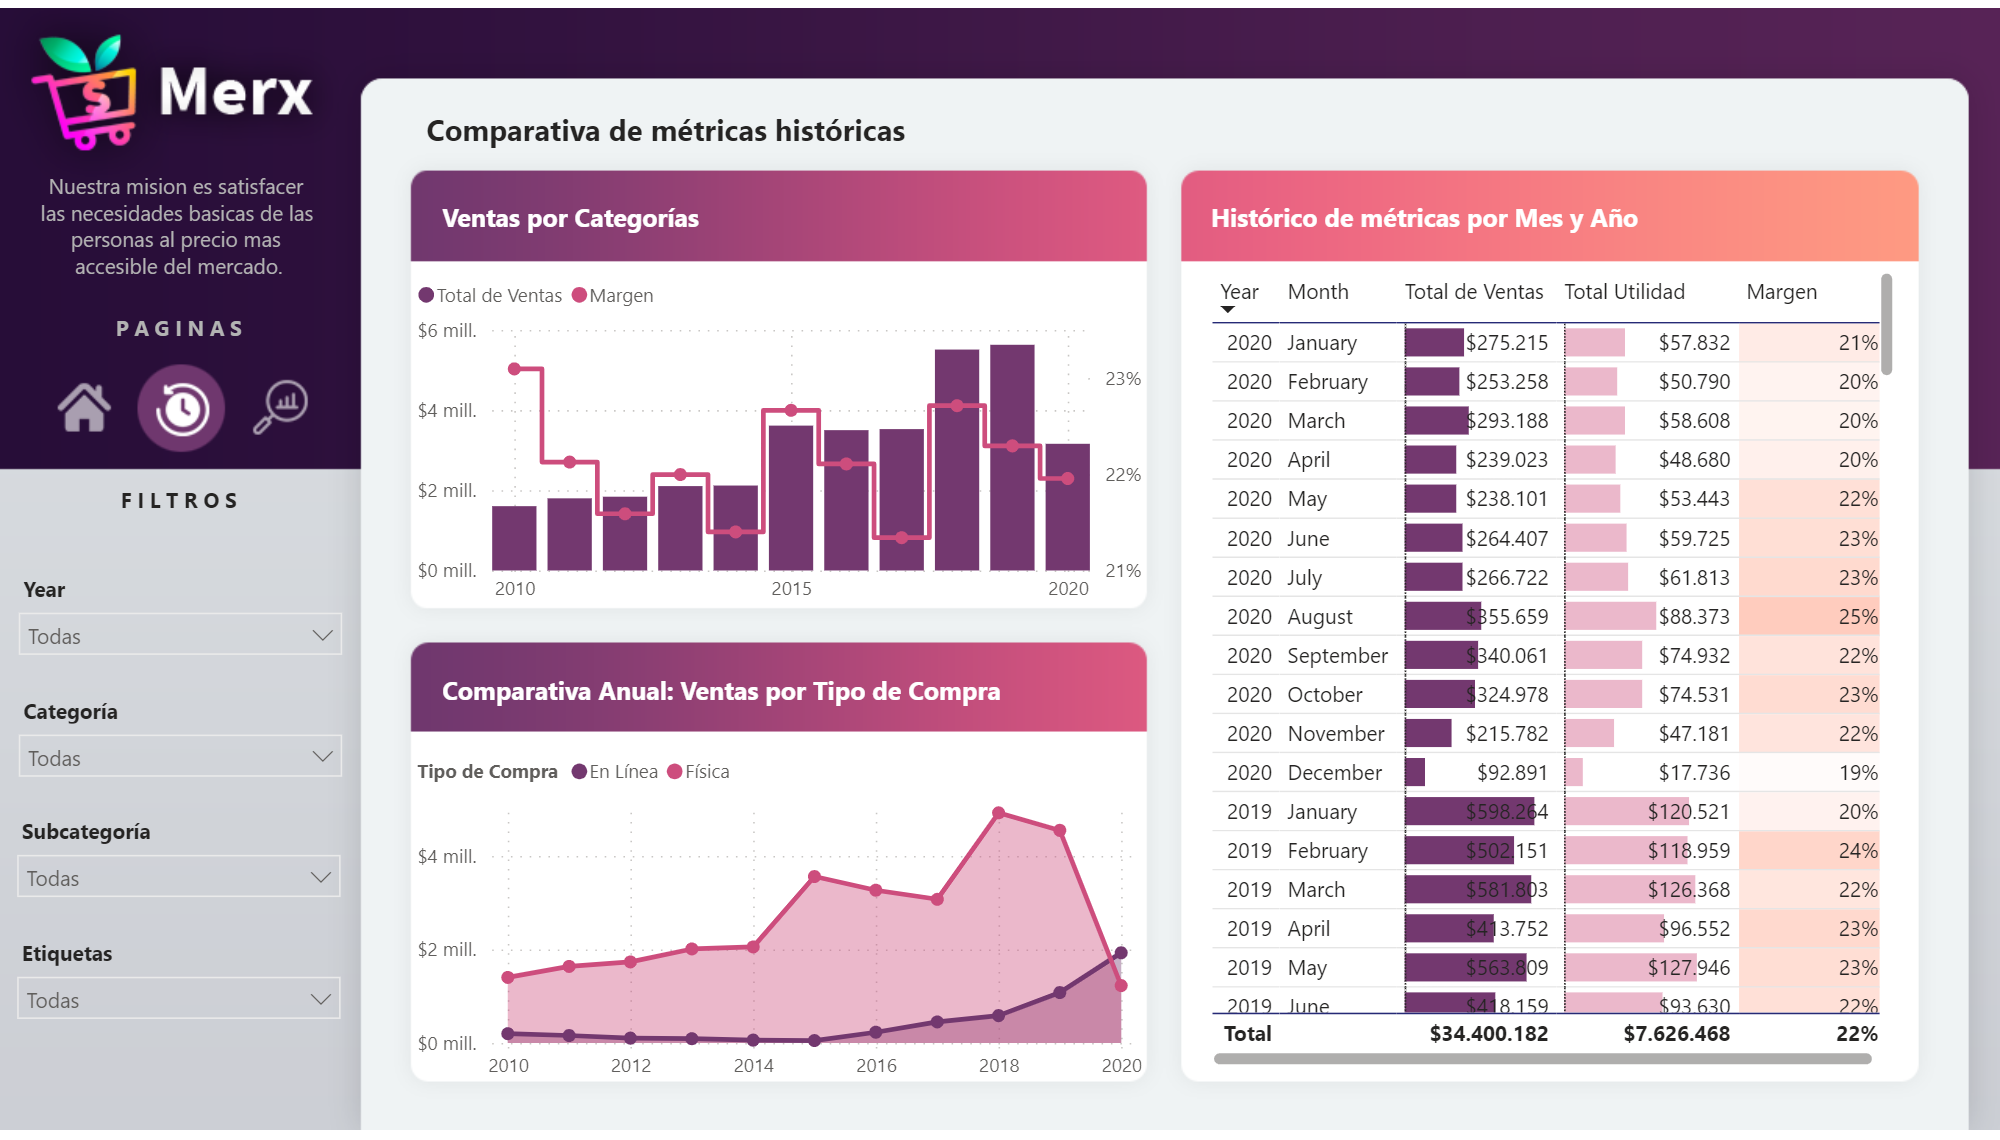

What the dashboard file says about the page in this screenshot:
{"tool":"powerbi","page":{"name":"Page 2","canvas":[1280,720],"ordinal":1},"visuals":[{"type":"slicer","fields":{"Values":["Transacciones.Fecha.Variation.Date Hierarchy.Year"]},"box":[1.8,357.8,227.1,78.1],"z":0},{"type":"slicer","fields":{"Values":["Transacciones.Categoría"]},"box":[1.8,435.9,227.1,77.2],"z":1000},{"type":"slicer","fields":{"Values":["Transacciones.Subcategoría"]},"box":[0.9,513,227.1,78.1],"z":2000},{"type":"slicer","fields":{"Values":["Transacciones.Etiquetas"]},"box":[0.9,591.1,227.1,77.2],"z":3000},{"type":"textbox","box":[1,0,227,150],"z":4000},{"type":"textbox","box":[268.4,349.9,232.4,37.7],"z":5000},{"type":"textbox","box":[21,100,186.8,80.7],"z":6000},{"type":"textbox","box":[21,191.2,186.8,35.1],"z":7000},{"type":"textbox","box":[21,300.8,186.8,35.1],"z":8000},{"type":"textbox","box":[268.4,59.6,825.2,46.5],"z":9000},{"type":"lineStackedColumnComboChart","fields":{"Category":["Transacciones.Fecha.Variation.Date Hierarchy.Year","Transacciones.Fecha.Variation.Date Hierarchy.Quarter","Transacciones.Fecha.Variation.Date Hierarchy.Month","Transacciones.Fecha.Variation.Date Hierarchy.Day"],"Y":["Transacciones.Total de Ventas"],"Y2":["Transacciones.Margen"]},"box":[262.2,163.9,473.5,226],"z":10000},{"type":"textbox","box":[277.7,118.2,343.3,43.1],"z":11000},{"type":"textbox","box":[277.7,420.9,427.8,43.1],"z":12000},{"type":"textbox","box":[770.2,118.2,343.3,43.1],"z":13000},{"type":"areaChart","fields":{"Category":["Transacciones.Fecha.Variation.Date Hierarchy.Year","Transacciones.Fecha.Variation.Date Hierarchy.Quarter","Transacciones.Fecha.Variation.Date Hierarchy.Month","Transacciones.Fecha.Variation.Date Hierarchy.Day"],"Y":["Transacciones.Total de Ventas"],"Series":["Transacciones.Tipo de Compra"]},"box":[262.2,469.2,473.5,226],"z":14000},{"type":"tableEx","fields":{"Values":["Transacciones.Fecha.Variation.Date Hierarchy.Year","Transacciones.Fecha.Variation.Date Hierarchy.Month","Transacciones.Total de Ventas","Transacciones.Total Utilidad","Transacciones.Margen"]},"box":[770.3,163.7,446.9,518],"z":15000},{"type":"actionButton","box":[32.4,236.4,43.1,40.4],"z":16000},{"type":"actionButton","box":[156.4,236.4,43.1,40.4],"z":17000}]}

Visuals, with their boxes in screenshot pixels (x1, y1, x2, y2), scaled from the page's 1280x720 canvas onto the 2000x1140 screenshot:
slicer - Transacciones.Fecha.Variation.Date Hierarchy.Year: 3/567/358/690
slicer - Transacciones.Categoría: 3/690/358/812
slicer - Transacciones.Subcategoría: 1/812/356/936
slicer - Transacciones.Etiquetas: 1/936/356/1058
textbox: 2/0/356/238
textbox: 419/554/782/614
textbox: 33/158/325/286
textbox: 33/303/325/358
textbox: 33/476/325/532
textbox: 419/94/1709/168
lineStackedColumnComboChart - Transacciones.Fecha.Variation.Date Hierarchy.Year x Transacciones.Fecha.Variation.Date Hierarchy.Quarter: 410/260/1150/617
textbox: 434/187/970/255
textbox: 434/666/1102/735
textbox: 1203/187/1740/255
areaChart - Transacciones.Fecha.Variation.Date Hierarchy.Year x Transacciones.Fecha.Variation.Date Hierarchy.Quarter: 410/743/1150/1101
tableEx - Transacciones.Fecha.Variation.Date Hierarchy.Year x Transacciones.Fecha.Variation.Date Hierarchy.Month: 1204/259/1902/1079
actionButton: 51/374/118/438
actionButton: 244/374/312/438
